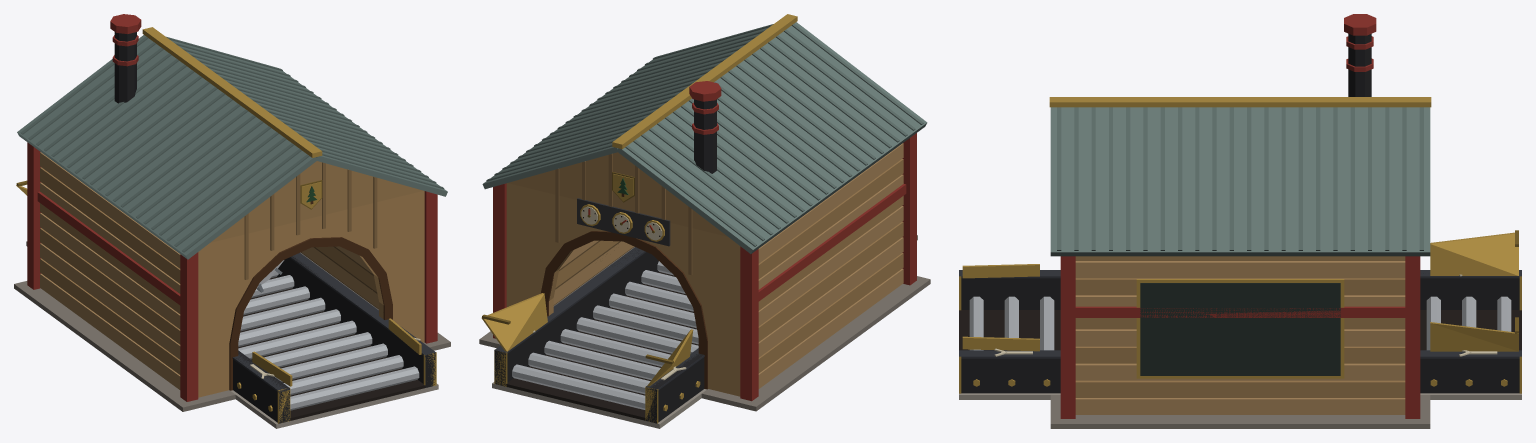
The model's file is Millmaster100.glb.
3 renders of one model, left to right at view 1: azimuth 30°, elevation 25°; view 2: azimuth 150°, elevation 25°; view 3: azimuth 270°, elevation 25°, orthographic. The views are drawn at different scales.
Visible parts, largest first — view 1: Body, Rollers, Belt; view 2: Body, Rollers, Belt; view 3: Body, Rollers, Belt.
Boxes of the visible parts, box(x1,y1,x2,y2) form: Body: box(14, 14, 450, 428); Rollers: box(237, 271, 419, 411); Belt: box(238, 277, 425, 420); Body: box(479, 14, 930, 428); Rollers: box(512, 261, 700, 411); Belt: box(506, 272, 698, 420); Body: box(959, 14, 1521, 428); Rollers: box(969, 296, 1511, 386); Belt: box(959, 310, 1521, 350).
Bounding box in the file's own units: 9.9 × 9.57 × 16.
